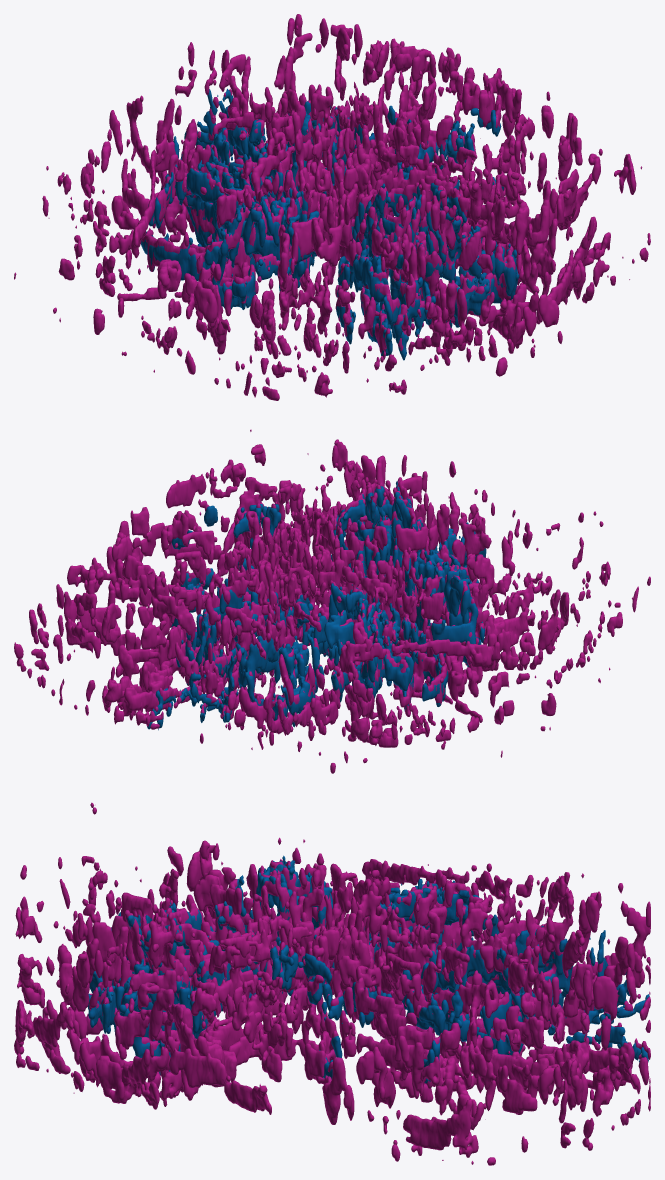
The picture shows the model from 3 angles, top to bottom: view 1: azimuth 30°, elevation 25°; view 2: azimuth 150°, elevation 25°; view 3: azimuth 270°, elevation 25°; orthographic projection. The views are drawn at different scales.
Visible parts, largest first — view 1: 300_max_tmre, 300_max_mito; view 2: 300_max_tmre, 300_max_mito; view 3: 300_max_tmre, 300_max_mito.
Part boxes in pixels (left/top/right/bottom): 300_max_tmre: left=14, top=14, right=650, bottom=400; 300_max_mito: left=141, top=88, right=519, bottom=360; 300_max_tmre: left=14, top=429, right=650, bottom=773; 300_max_mito: left=147, top=481, right=486, bottom=730; 300_max_tmre: left=14, top=802, right=650, bottom=1165; 300_max_mito: left=88, top=855, right=649, bottom=1083.
Bounding box in the file's own units: 39.55 × 10.71 × 39.59.
